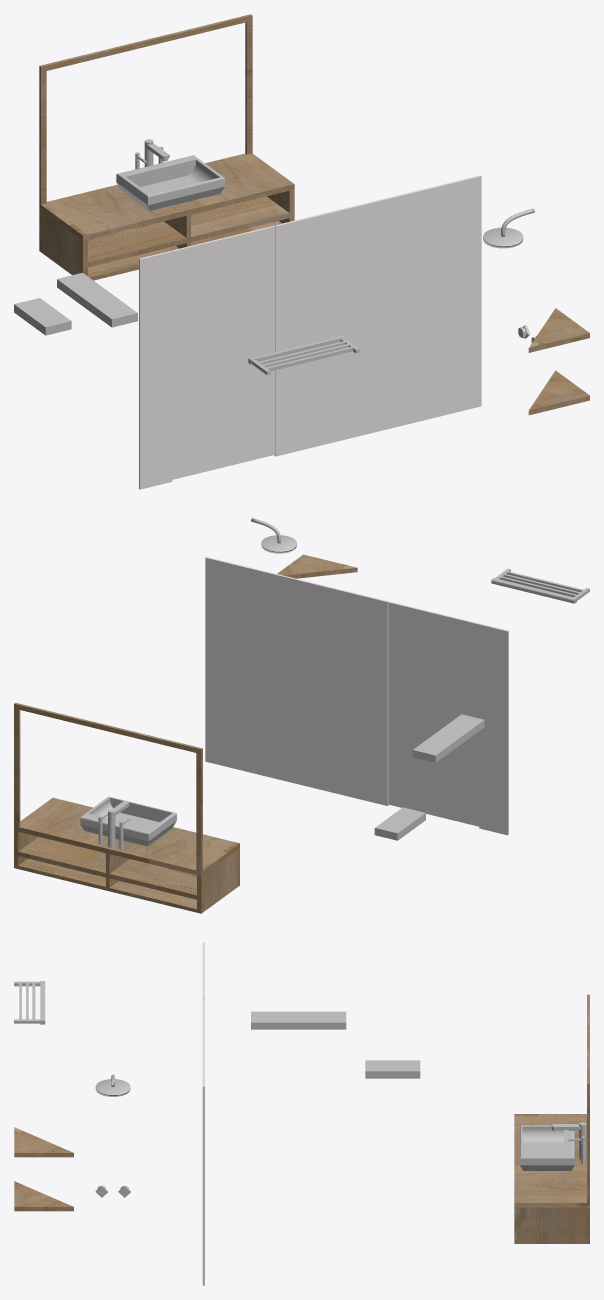
The model's file is Bethroom_1.fbx.
3 views of the same model, one above another, from view 1: azimuth 30°, elevation 25°; view 2: azimuth 150°, elevation 25°; view 3: azimuth 270°, elevation 25° (orthographic). The views are drawn at different scales.
Visible parts, largest first — view 1: Bethroom_1_ShowerGlass, Bethroom_1_GlassDoor, Bethroom_1_SinkStructure, Bethroom_1_Sink, Bethroom_1_Shelf_1, Bethroom_1_Sheld_2, Bethroom_1_Shelf_3, Bethroom_1_Showerhead; view 2: Bethroom_1_ShowerGlass, Bethroom_1_SinkStructure, Bethroom_1_GlassDoor, Bethroom_1_Shelf_1, Bethroom_1_Sink, Bethroom_1_Shelf_3, Bethroom_1_Sheld_2, Bethroom_1_Faucet, Bethroom_1_Showerhead; view 3: Bethroom_1_SinkStructure, Bethroom_1_Shelf_1, Bethroom_1_Sink, Bethroom_1_Sheld_2, Bethroom_1_ShowerGlass, Bethroom_1_Shelf_3, Bethroom_1_Faucet, Bethroom_1_Showerhead.
Part boxes in pixels (x1=…): Bethroom_1_ShowerGlass: x1=139, y1=175, x2=481, y2=489; Bethroom_1_GlassDoor: x1=171, y1=225, x2=275, y2=479; Bethroom_1_SinkStructure: x1=39, y1=14, x2=294, y2=280; Bethroom_1_Sink: x1=116, y1=155, x2=224, y2=210; Bethroom_1_Shelf_1: x1=14, y1=272, x2=137, y2=335; Bethroom_1_Sheld_2: x1=528, y1=308, x2=589, y2=415; Bethroom_1_Shelf_3: x1=248, y1=335, x2=359, y2=374; Bethroom_1_Showerhead: x1=483, y1=227, x2=523, y2=248; Bethroom_1_ShowerGlass: x1=205, y1=557, x2=508, y2=835; Bethroom_1_SinkStructure: x1=14, y1=702, x2=239, y2=913; Bethroom_1_GlassDoor: x1=388, y1=601, x2=479, y2=826; Bethroom_1_Shelf_1: x1=374, y1=714, x2=484, y2=840; Bethroom_1_Sink: x1=80, y1=796, x2=176, y2=846; Bethroom_1_Shelf_3: x1=491, y1=568, x2=589, y2=603; Bethroom_1_Sheld_2: x1=277, y1=554, x2=357, y2=578; Bethroom_1_Faucet: x1=98, y1=800, x2=129, y2=849; Bethroom_1_Showerhead: x1=261, y1=535, x2=296, y2=553; Bethroom_1_SinkStructure: x1=514, y1=994, x2=589, y2=1243; Bethroom_1_Shelf_1: x1=251, y1=1011, x2=420, y2=1078; Bethroom_1_Sink: x1=520, y1=1125, x2=574, y2=1170; Bethroom_1_Sheld_2: x1=14, y1=1127, x2=73, y2=1211; Bethroom_1_ShowerGlass: x1=202, y1=942, x2=204, y2=1285; Bethroom_1_Shelf_3: x1=14, y1=981, x2=45, y2=1024; Bethroom_1_Faucet: x1=551, y1=1122, x2=586, y2=1164; Bethroom_1_Showerhead: x1=95, y1=1079, x2=130, y2=1096.
Bounding box in the file's own units: 977 × 643 × 1648.
